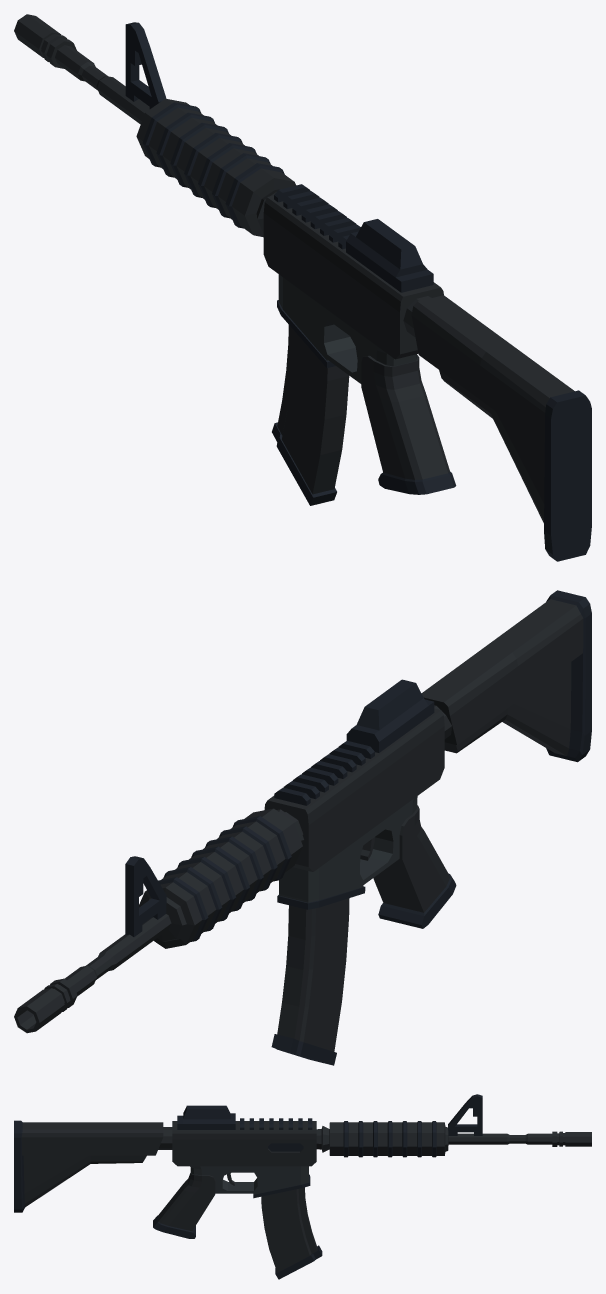
Rendered from rifle.glb.
3 renders of one model, top to bottom at view 1: azimuth 30°, elevation 25°; view 2: azimuth 150°, elevation 25°; view 3: azimuth 270°, elevation 25°, orthographic. The views are drawn at different scales.
Visible parts, largest first — view 1: AssaultRifle2_1; view 2: AssaultRifle2_1; view 3: AssaultRifle2_1.
Boxes of the visible parts, x1,y1,x2,y2 form: AssaultRifle2_1: (14,14,591,561); AssaultRifle2_1: (14,590,591,1065); AssaultRifle2_1: (14,1094,591,1279).
Size of the model in its own units: 0.0563 by 0.2909 by 0.84.
1 material, 1 textured.
